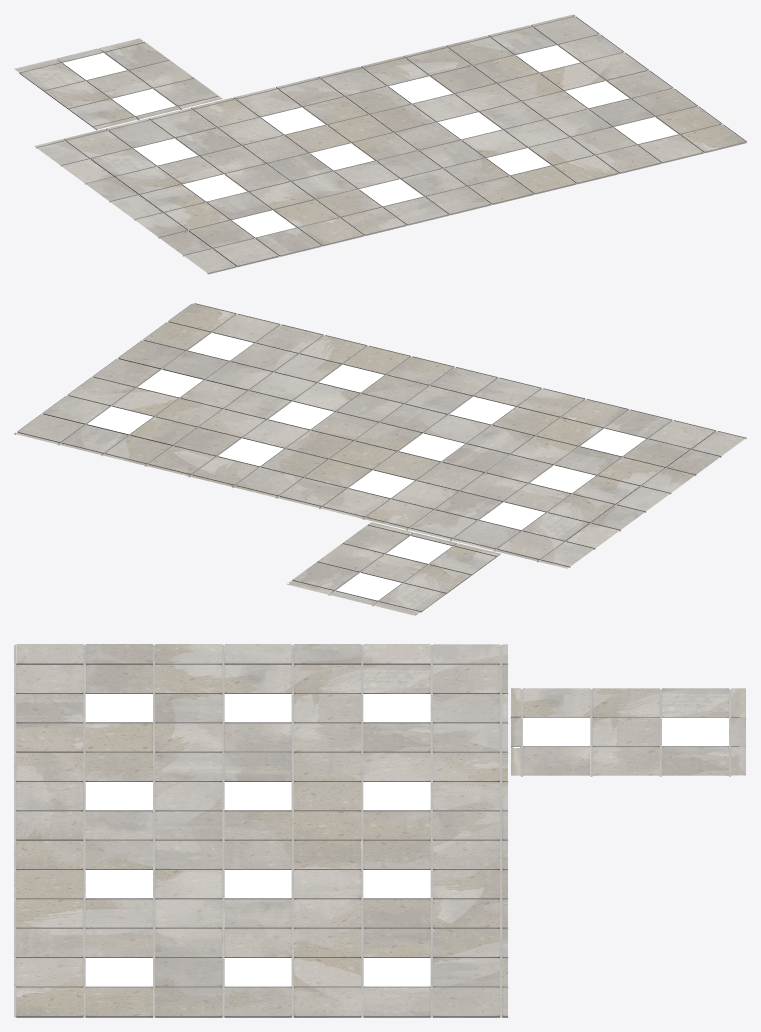
File: Roof.fbx
The picture shows the model from 3 angles, top to bottom: view 1: azimuth 30°, elevation 25°; view 2: azimuth 150°, elevation 25°; view 3: azimuth 270°, elevation 25°; orthographic projection. The views are drawn at different scales.
Visible parts, largest first — view 1: Roof; view 2: Roof; view 3: Roof.
Part boxes in pixels (bbox=[...]): Roof: bbox=[14, 14, 746, 274]; Roof: bbox=[14, 303, 746, 615]; Roof: bbox=[14, 644, 746, 1017].
Size of the model in its own units: 1062 by 1.39 by 881.
